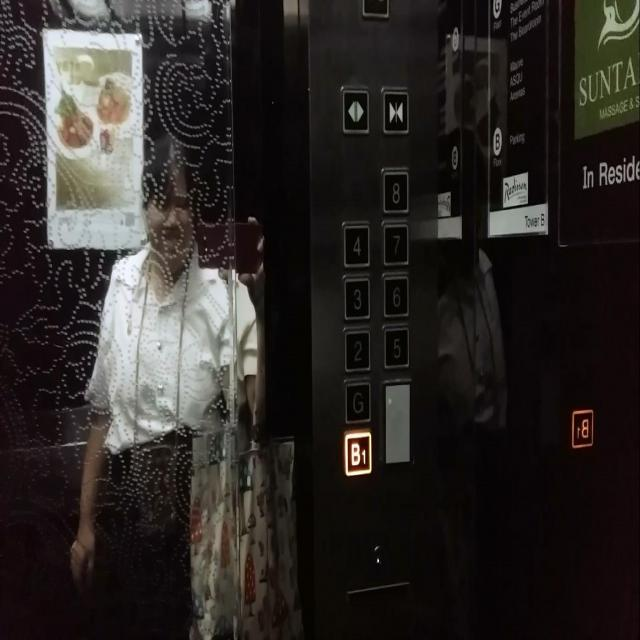2: (342, 324, 372, 375)
3: (341, 270, 372, 322)
4: (340, 219, 370, 270)
5: (380, 321, 410, 371)
6: (380, 271, 410, 321)
7: (379, 218, 411, 268)
8: (380, 165, 410, 217)
B1: (342, 427, 372, 476)
G: (342, 377, 372, 425)
close: (380, 84, 410, 136)
keyhole: (372, 545, 384, 567)
open: (340, 84, 370, 136)
unknown: (569, 407, 594, 449)
